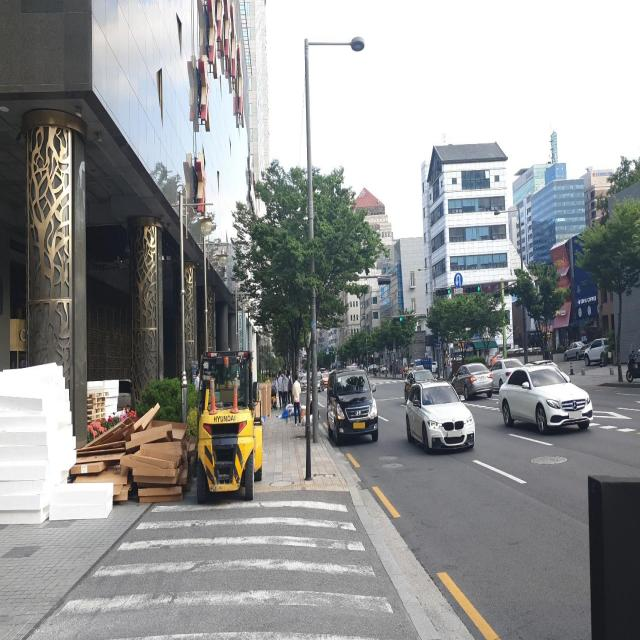횡단보도: (33, 496, 396, 637)
